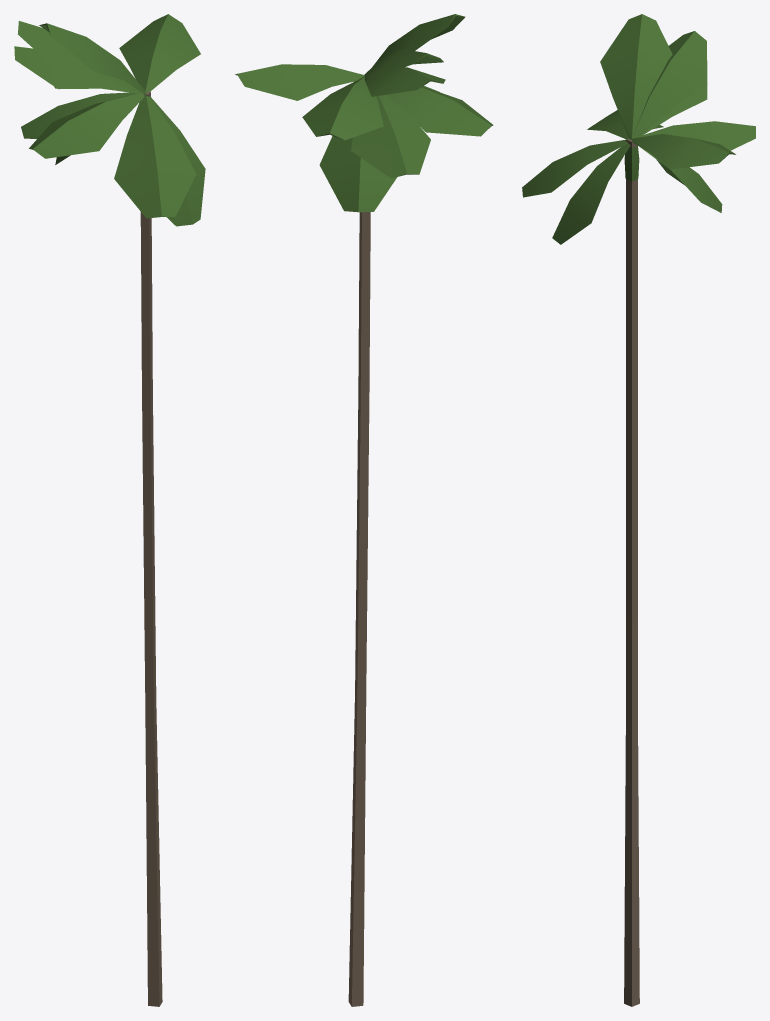
File: areca_palm.far.glb
3 renders of one model, left to right at view 1: azimuth 30°, elevation 25°; view 2: azimuth 150°, elevation 25°; view 3: azimuth 270°, elevation 25°, orthographic. The views are drawn at different scales.
Visible parts, largest first — view 1: areca_palm; view 2: areca_palm; view 3: areca_palm.
Boxes of the visible parts, bbox=[...] form: areca_palm: bbox=[14, 14, 205, 1006]; areca_palm: bbox=[235, 14, 493, 1006]; areca_palm: bbox=[522, 14, 755, 1006].
Bounding box in the file's own units: 2.77 × 13.16 × 2.96.
